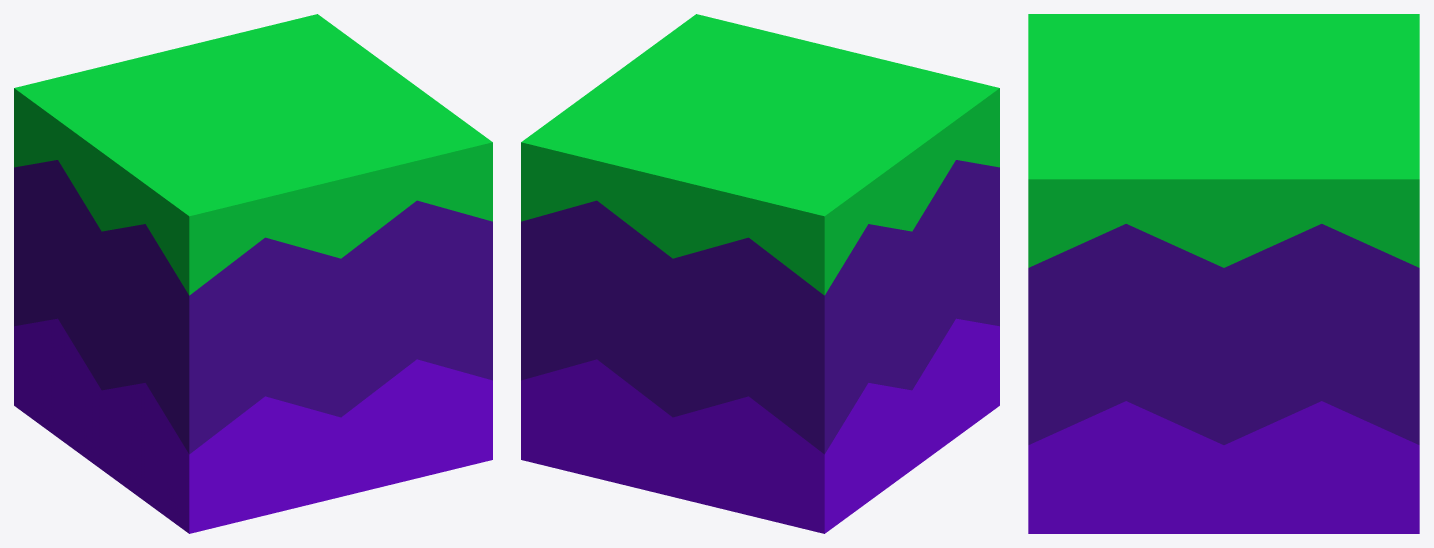
The model's file is Level One Top Block.fbx.
3 renders of one model, left to right at view 1: azimuth 30°, elevation 25°; view 2: azimuth 150°, elevation 25°; view 3: azimuth 270°, elevation 25°, orthographic. The views are drawn at different scales.
Parts seen in each view (by area): view 1: Cube; view 2: Cube; view 3: Cube.
Part boxes in pixels (x1,y1,x2,y2): Cube: (14, 14, 492, 533); Cube: (521, 14, 999, 533); Cube: (1028, 14, 1419, 533).
Size of the model in its own units: 200 by 200 by 200.
